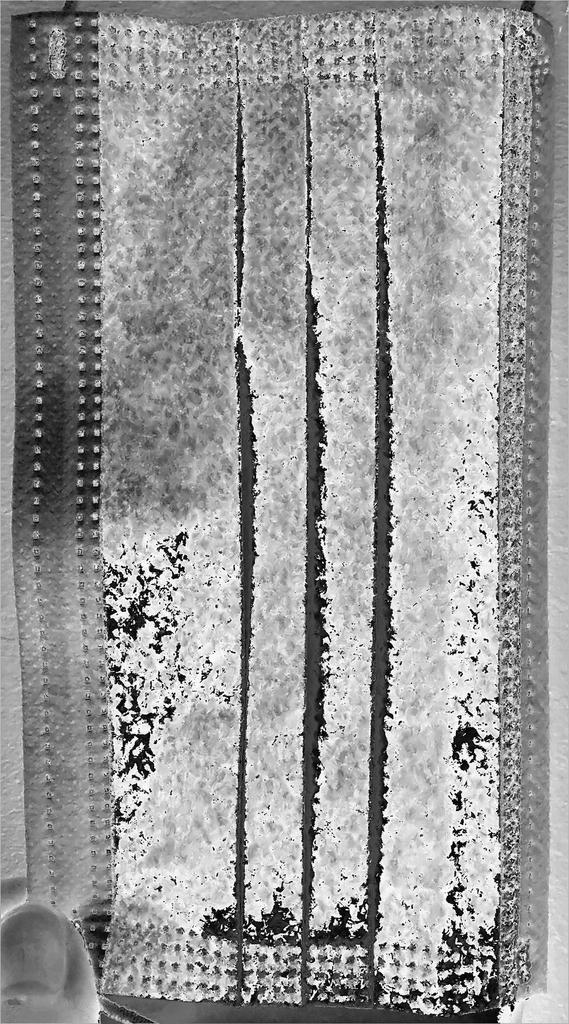High GSM: (104, 481, 497, 937)
